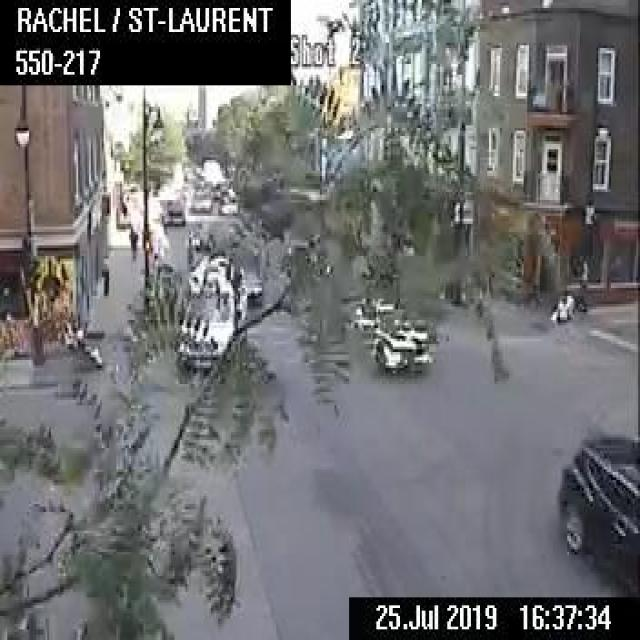pedestrian: (98, 264, 111, 299), (128, 218, 136, 258)
vehicle: (556, 427, 638, 592), (174, 265, 246, 377), (159, 192, 183, 224), (188, 186, 211, 212), (217, 193, 238, 211)
